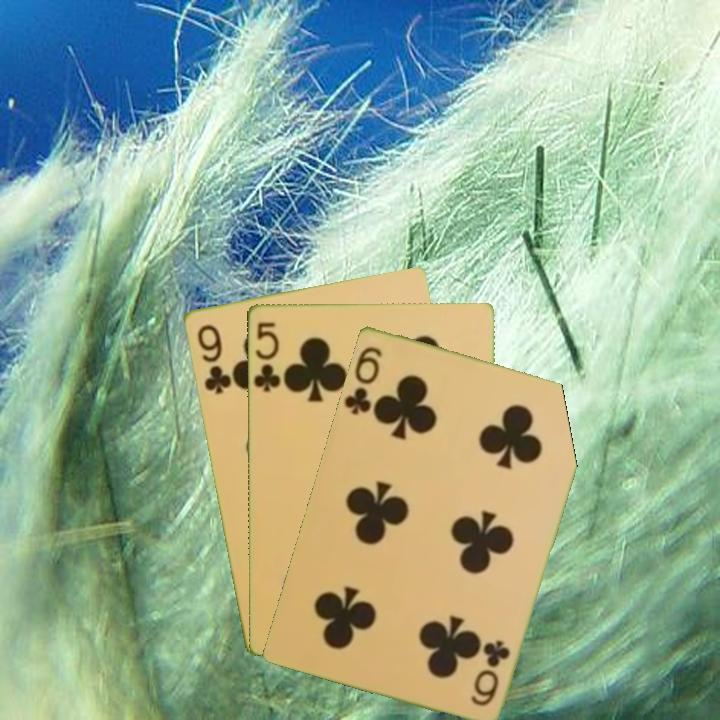5c: (250, 318, 283, 394)
6c: (340, 342, 385, 417), (467, 636, 513, 709)
9c: (193, 320, 234, 397)
